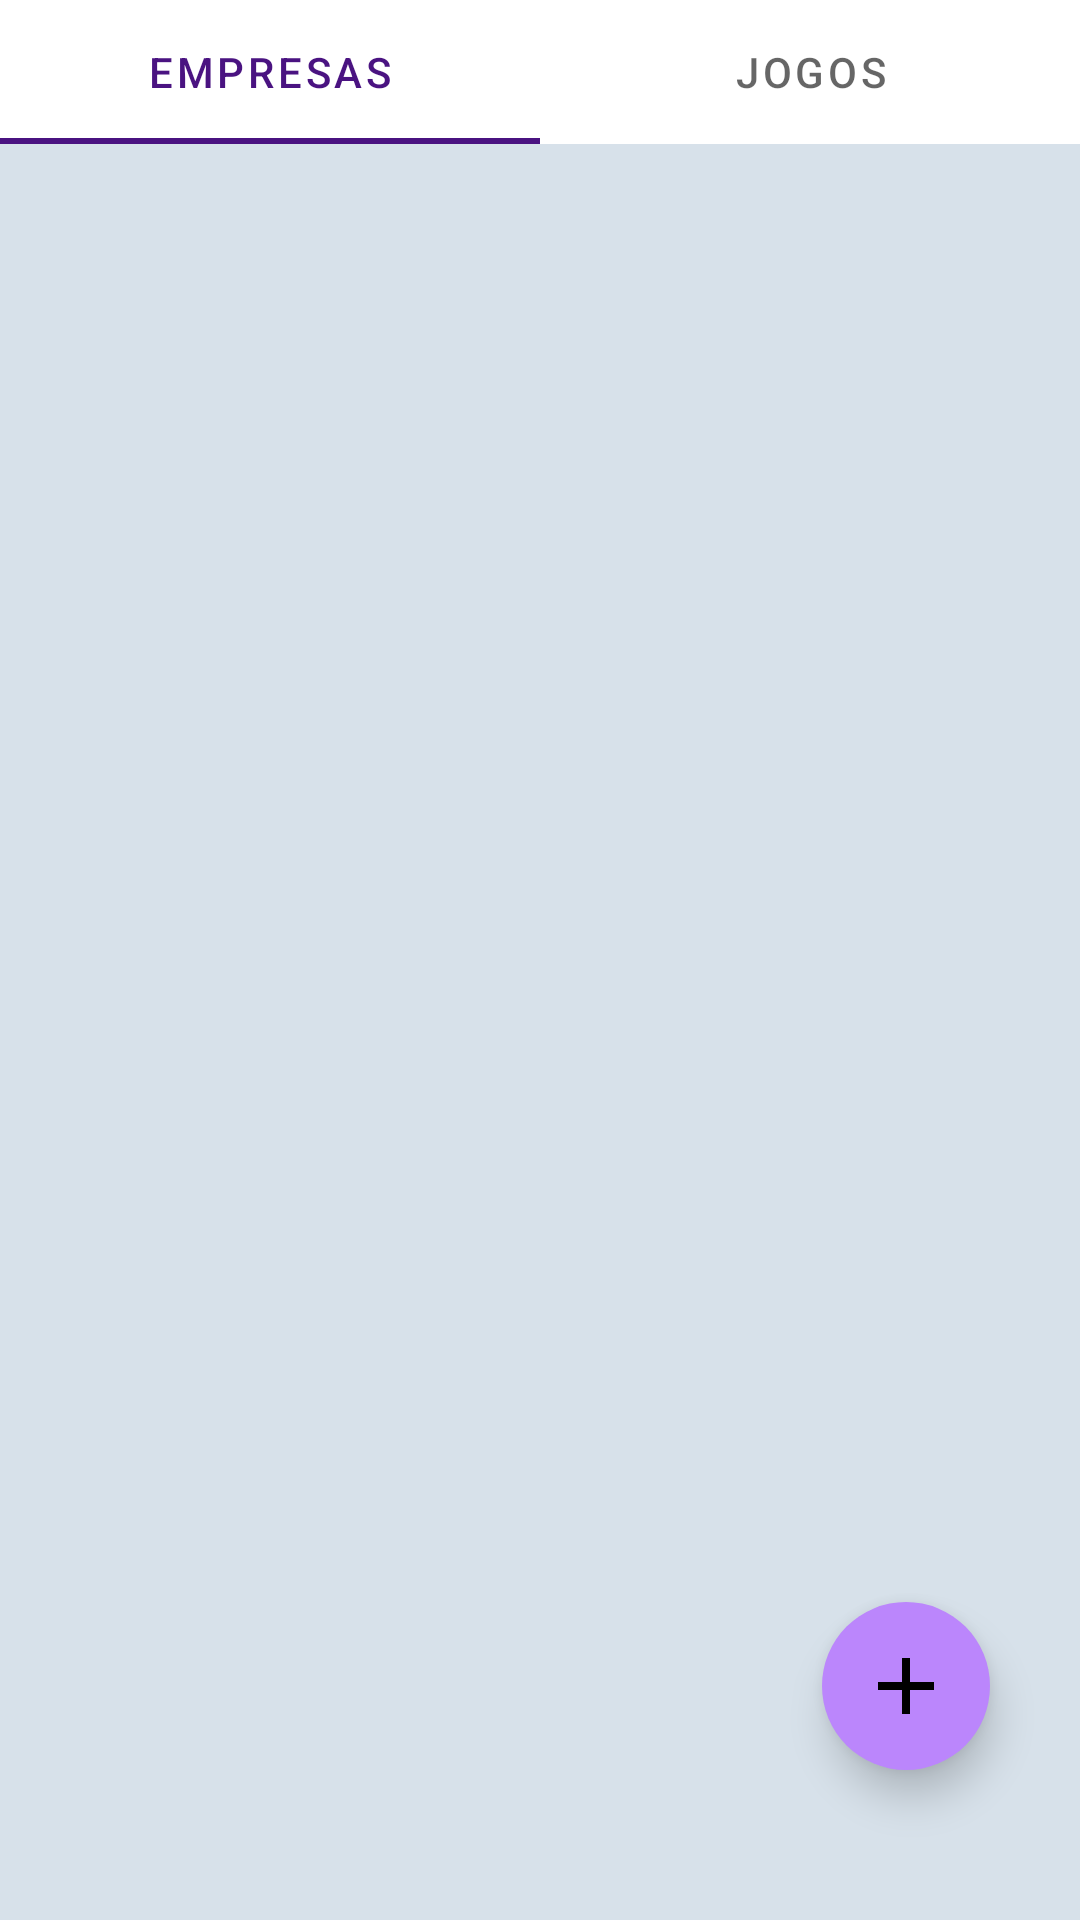

Icons on this 1080w x 1920h Android screen, each with its box as (x1, y1, x2, y2):
add: (822, 1602, 990, 1770)
